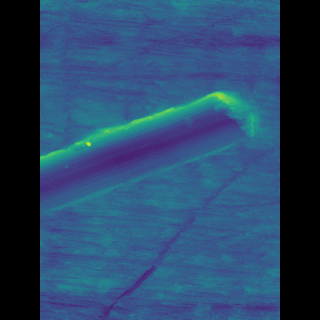Loch: (69, 89, 237, 215)
